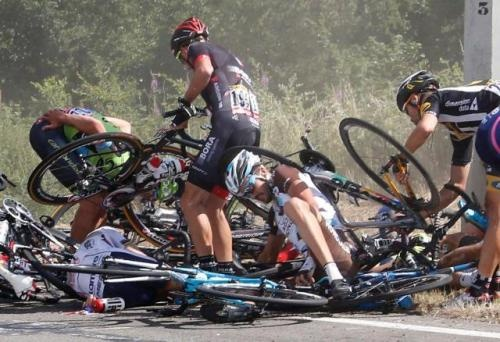falling: (48, 214, 189, 317)
